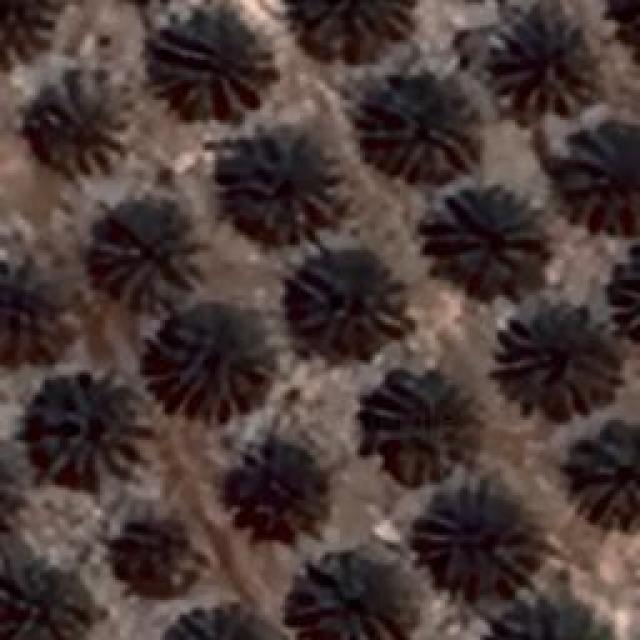PalmTree: (36, 101, 622, 296), (30, 32, 625, 101), (150, 305, 280, 420), (147, 9, 276, 122), (27, 370, 155, 482), (360, 370, 485, 482), (475, 5, 595, 120), (362, 65, 482, 180), (495, 302, 615, 416), (222, 126, 342, 240), (428, 188, 548, 298), (288, 250, 412, 348), (90, 208, 205, 310), (544, 120, 638, 238), (275, 555, 403, 640), (34, 66, 132, 172), (420, 488, 522, 582), (1, 255, 89, 360), (234, 444, 332, 538), (288, 0, 417, 68), (572, 414, 638, 528), (2, 560, 90, 638), (497, 585, 600, 640), (110, 520, 188, 592), (162, 599, 272, 640), (0, 0, 59, 66), (0, 436, 24, 546), (0, 437, 15, 545), (0, 439, 12, 546), (618, 0, 640, 57)
